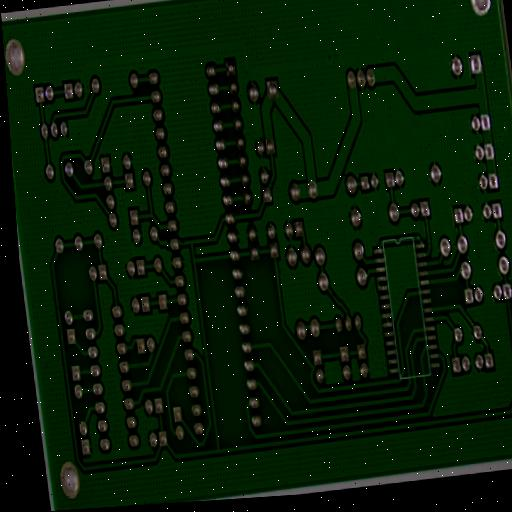mouse_bite: (329, 287, 337, 301), (269, 178, 277, 190), (180, 237, 187, 248)
